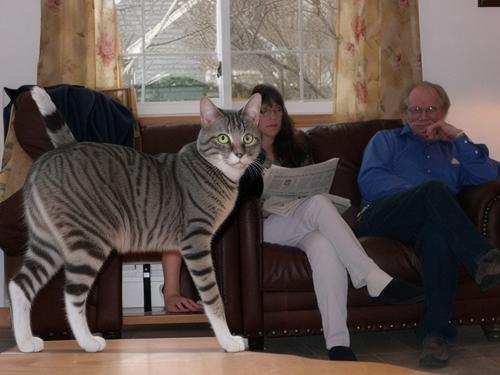cat: (3, 85, 263, 352)
person: (203, 81, 428, 367), (360, 78, 500, 370)
person/foot: (367, 278, 429, 304), (477, 249, 500, 291), (419, 338, 451, 368), (327, 345, 357, 361)
person/hand: (418, 121, 459, 140), (238, 195, 265, 217)
person/head: (404, 82, 449, 137), (244, 83, 284, 135)
sofa: (1, 116, 500, 349)
